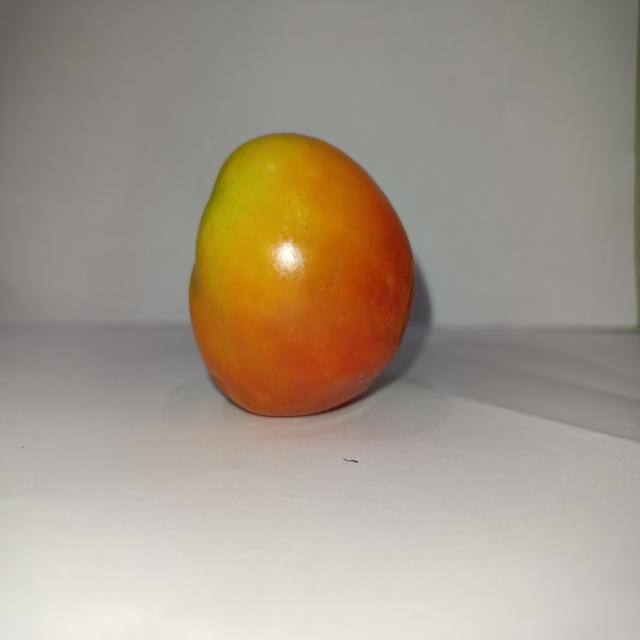Red: (187, 130, 416, 418)
